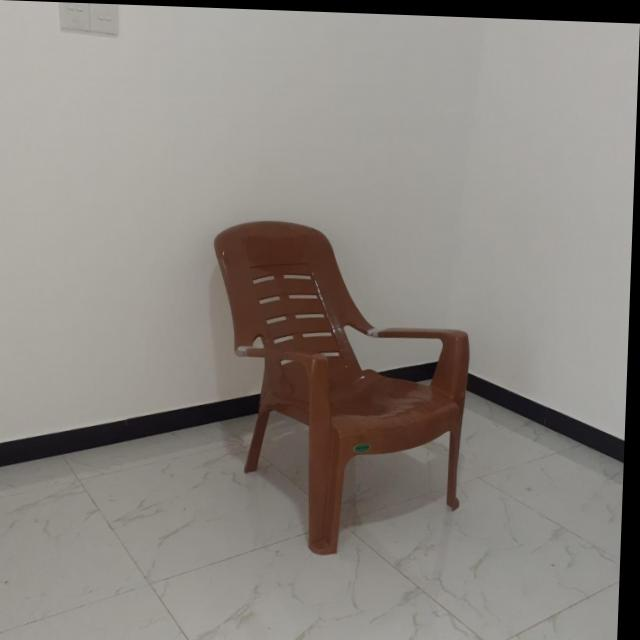Chair: (207, 215, 478, 556)
